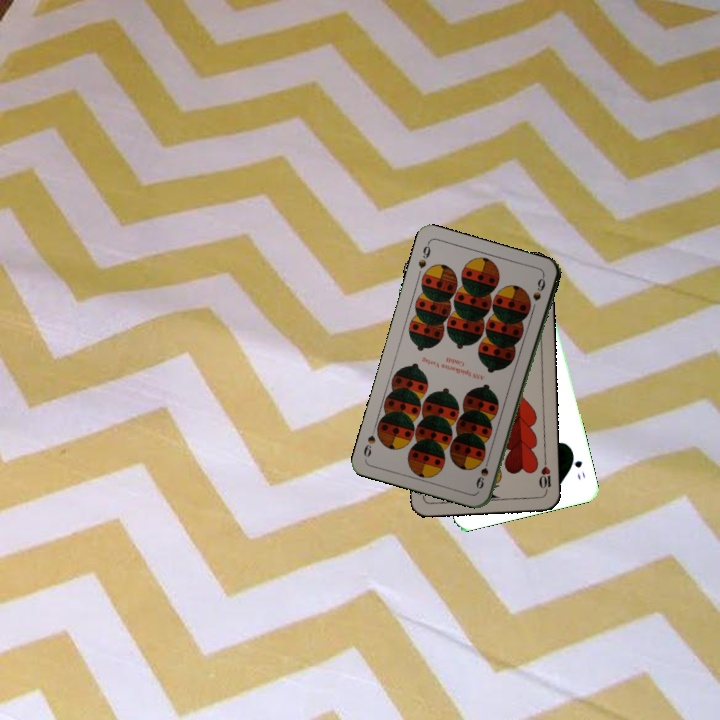GO: (568, 447, 588, 482)
H10: (535, 455, 554, 496)
S9: (473, 453, 492, 492), (414, 239, 433, 271)
